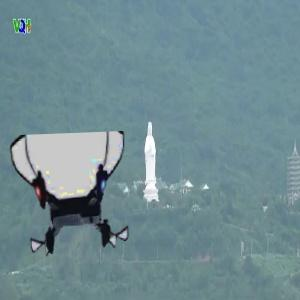drone: (11, 134, 137, 260)
